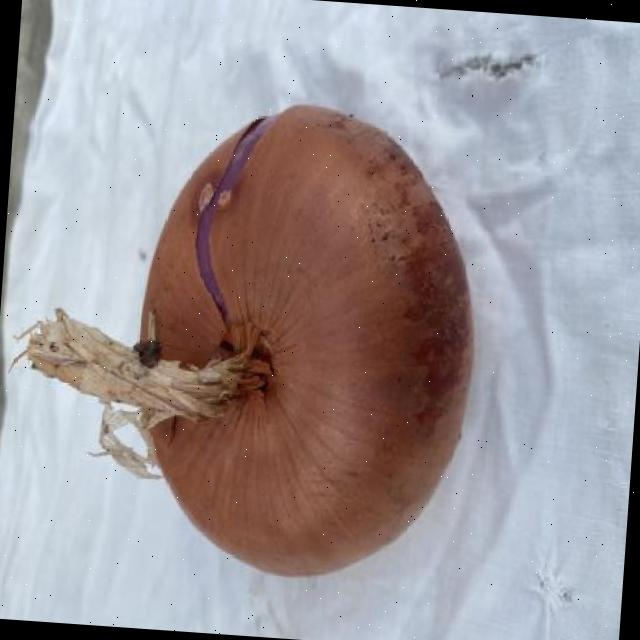Onion: (18, 103, 472, 575)
